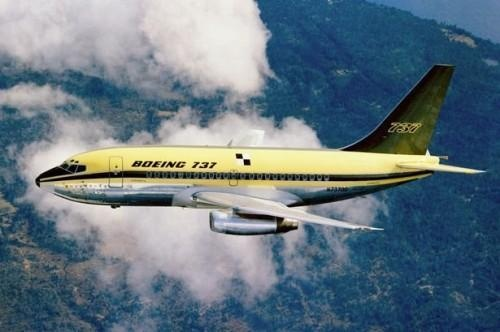airplane: (30, 61, 483, 240)
